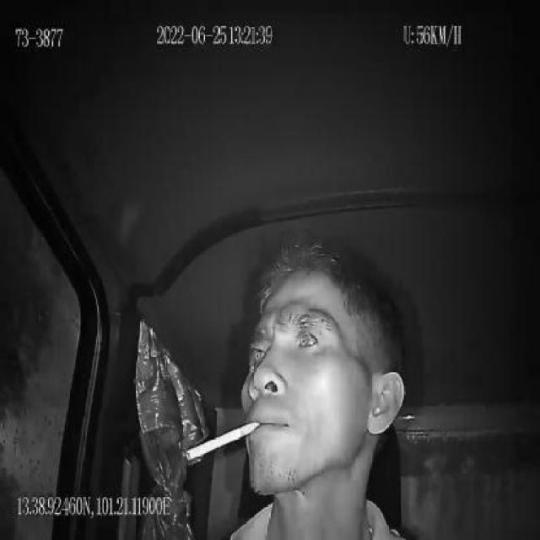smoking: (186, 419, 260, 462)
